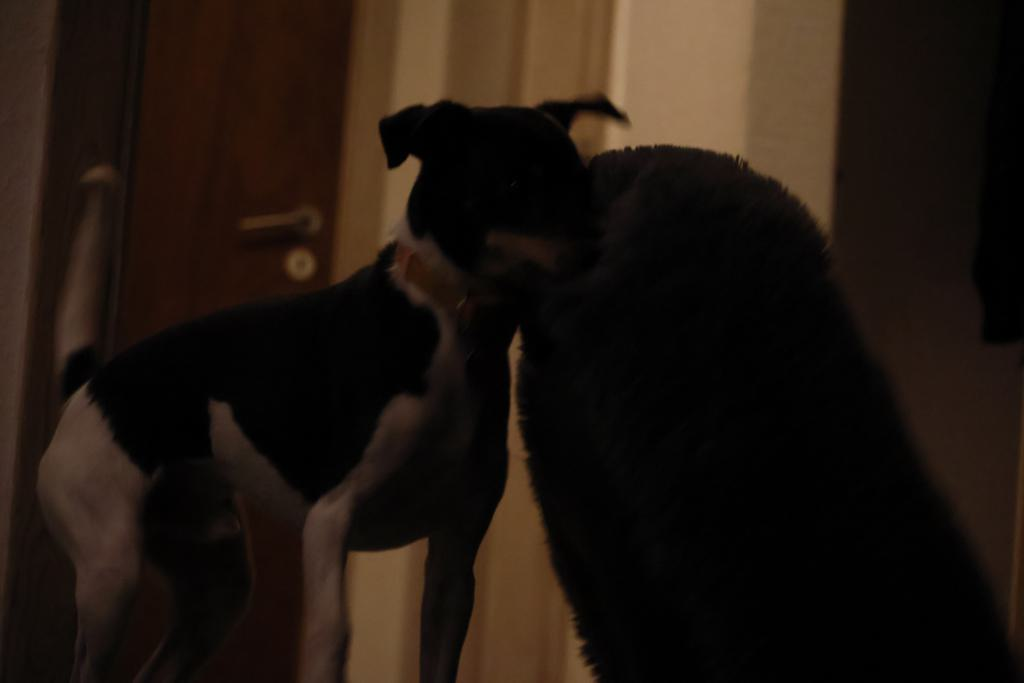Dog: (28, 58, 677, 683)
